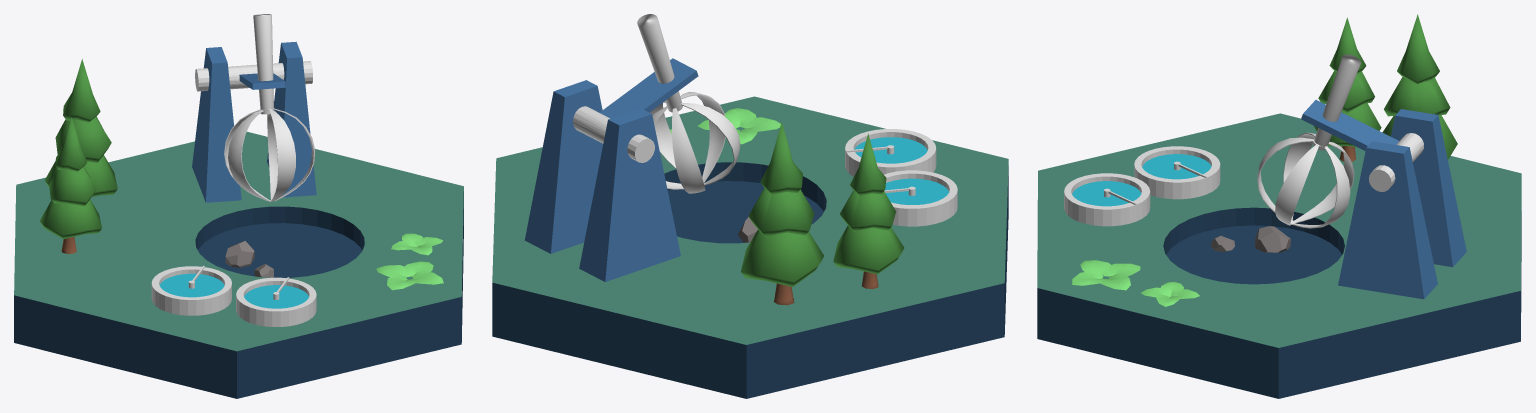
The model's file is Macro - Mineral lvl 1 WM2 rev.fbx.
The picture shows the model from 3 angles, left to right: view 1: azimuth 30°, elevation 25°; view 2: azimuth 150°, elevation 25°; view 3: azimuth 270°, elevation 25°; orthographic projection. The views are drawn at different scales.
Visible parts, largest first — view 1: Cylinder.011, Cube.002, Tree_Spruce_tiny_01.001, Circle.001, Tree_Spruce_tiny_01.002, Cube.001, Cylinder.109, Cylinder.102, Cylinder.003, Plane.011, Cylinder.002, Cylinder.104 (+4 smaller); view 2: Cylinder.011, Cube.002, Cube.001, Tree_Spruce_tiny_01.002, Tree_Spruce_tiny_01.001, Circle.001, Cylinder.109, Cube.003, Cylinder.102, Cylinder.003, Cylinder.002, Cylinder.107 (+2 smaller); view 3: Cylinder.011, Cube.001, Cube.002, Circle.001, Tree_Spruce_tiny_01.002, Cylinder.102, Cylinder.109, Tree_Spruce_tiny_01.001, Cube.003, Cylinder.003, Plane.011, Cylinder.107 (+4 smaller).
Boxes of the visible parts, left/top/right/bottom form: Cylinder.011: left=14, top=131, right=463, bottom=398; Cube.002: left=192, top=47, right=241, bottom=202; Tree_Spruce_tiny_01.001: left=40, top=117, right=101, bottom=253; Circle.001: left=224, top=108, right=315, bottom=201; Tree_Spruce_tiny_01.002: left=44, top=59, right=117, bottom=196; Cube.001: left=267, top=41, right=316, bottom=197; Cylinder.109: left=151, top=266, right=231, bottom=315; Cylinder.102: left=236, top=277, right=316, bottom=326; Cylinder.003: left=253, top=14, right=273, bottom=114; Plane.011: left=376, top=261, right=443, bottom=290; Cylinder.002: left=195, top=61, right=312, bottom=91; Cylinder.104: left=244, top=285, right=308, bottom=308; Cylinder.011: left=492, top=96, right=1008, bottom=398; Cube.002: left=579, top=108, right=680, bottom=281; Cube.001: left=524, top=80, right=603, bottom=253; Tree_Spruce_tiny_01.002: left=741, top=121, right=823, bottom=305; Tree_Spruce_tiny_01.001: left=833, top=133, right=904, bottom=288; Circle.001: left=649, top=91, right=740, bottom=193; Cylinder.109: left=884, top=170, right=957, bottom=226; Cube.003: left=599, top=58, right=698, bottom=118; Cylinder.102: left=845, top=129, right=936, bottom=176; Cylinder.003: left=637, top=14, right=682, bottom=112; Cylinder.002: left=573, top=106, right=654, bottom=162; Cylinder.107: left=885, top=178, right=948, bottom=204; Cylinder.011: left=1037, top=113, right=1521, bottom=398; Cube.001: left=1338, top=141, right=1437, bottom=299; Cube.002: left=1391, top=109, right=1466, bottom=267; Circle.001: left=1257, top=132, right=1354, bottom=228; Tree_Spruce_tiny_01.002: left=1382, top=14, right=1457, bottom=159; Cylinder.102: left=1064, top=173, right=1150, bottom=226; Cylinder.109: left=1134, top=146, right=1220, bottom=199; Tree_Spruce_tiny_01.001: left=1314, top=17, right=1381, bottom=161; Cube.003: left=1301, top=100, right=1398, bottom=150; Cylinder.003: left=1313, top=54, right=1360, bottom=150; Plane.011: left=1072, top=260, right=1140, bottom=290; Cylinder.107: left=1142, top=154, right=1211, bottom=179.
Bounding box in the file's own units: 197 × 99.74 × 172.
